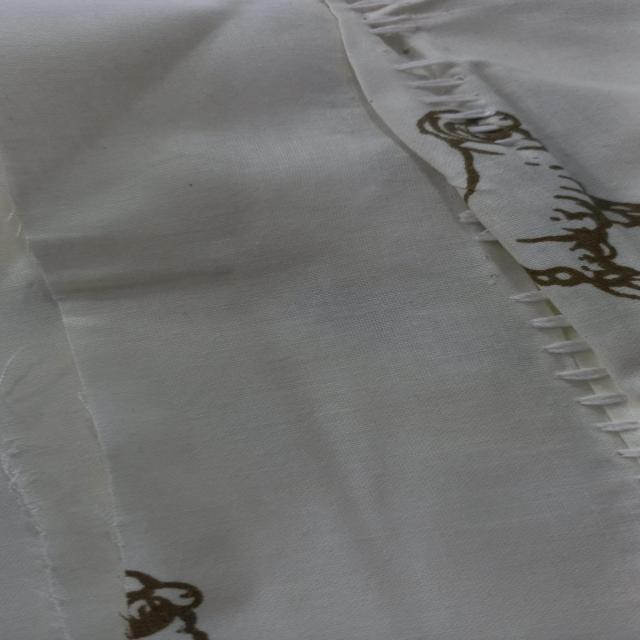gray stitch: (453, 186, 637, 455), (334, 2, 530, 159)
